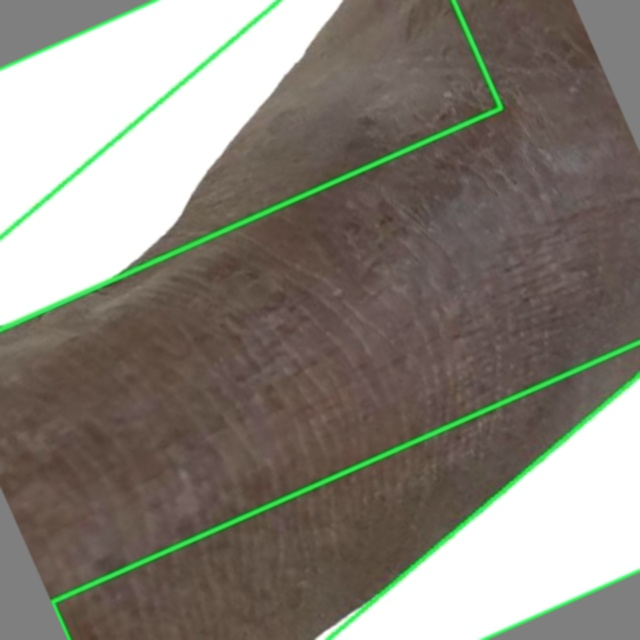Contact Dermatitis: (0, 0, 639, 639), (52, 342, 639, 639), (0, 0, 501, 329)
